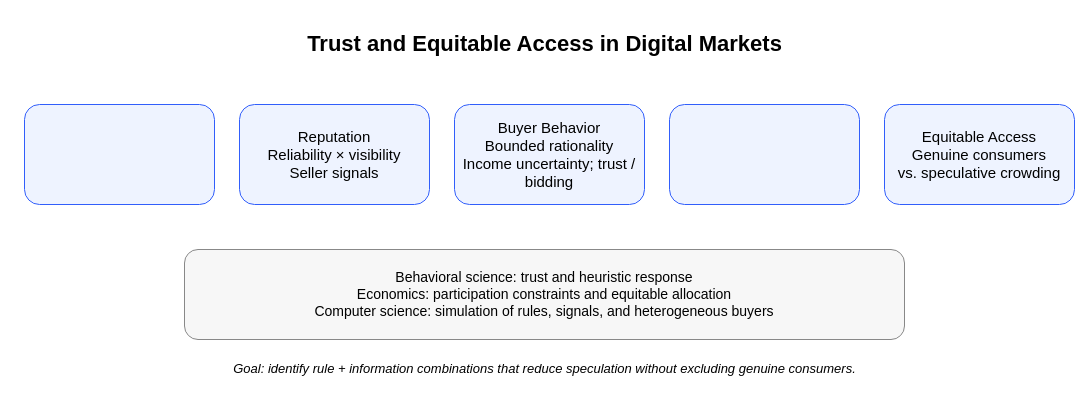
The diagram is 1092 pixels wide and 407 high, and some of its shapes have lost their labels. The shapes that lost their labels are listed below. From the top down, each one's centre as x and y in pixels, then its label:
the point at 119,154: Platform Rules Refundable / non-transferable vs. transferable
the point at 764,154: Market Outcomes Trade probability Speculation; allocation
